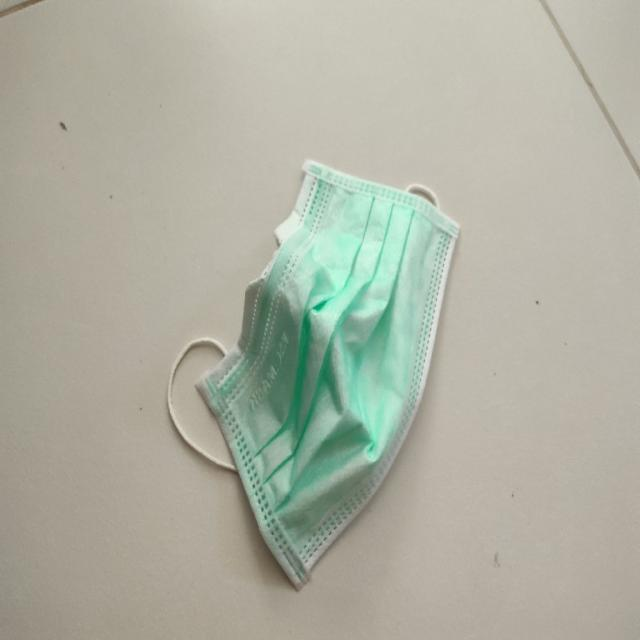face mask: (165, 150, 463, 586)
